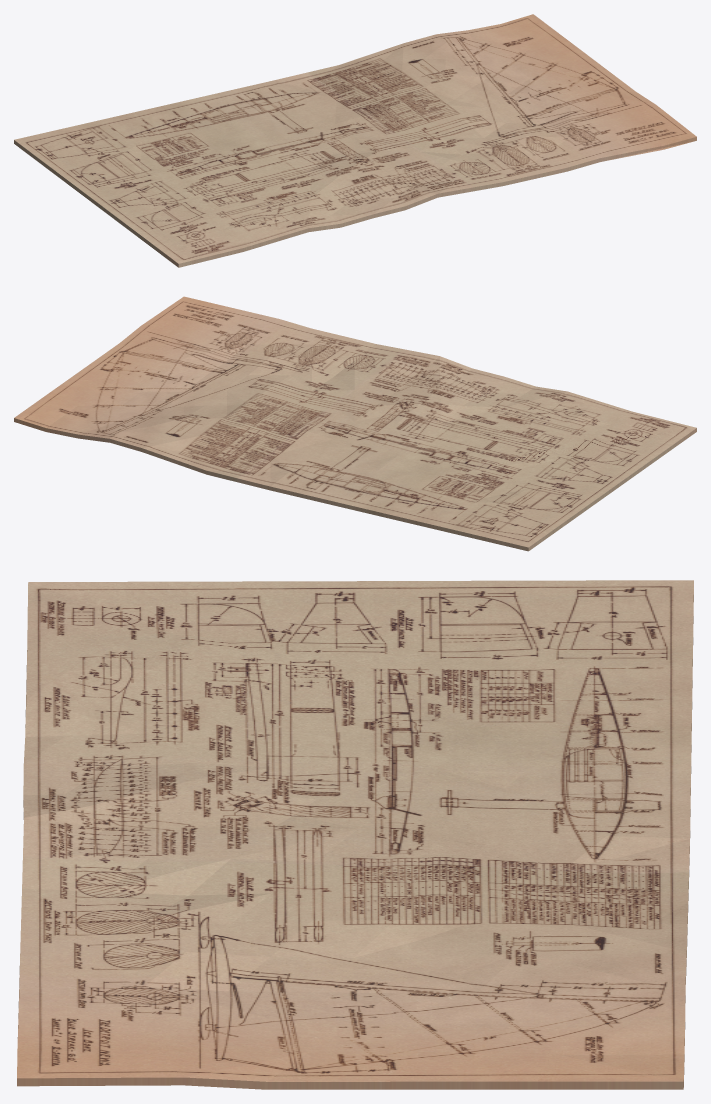
The model's file is papier.fbx.
The picture shows the model from 3 angles, top to bottom: view 1: azimuth 30°, elevation 25°; view 2: azimuth 150°, elevation 25°; view 3: azimuth 270°, elevation 25°; orthographic projection. The views are drawn at different scales.
Parts seen in each view (by area): view 1: Plane; view 2: Plane; view 3: Plane.
Part boxes in pixels (x1,y1,x2,y2): Plane: (14,14,696,267); Plane: (14,296,696,551); Plane: (17,580,693,1089).
Bounding box in the file's own units: 109 × 2.82 × 61.61.
